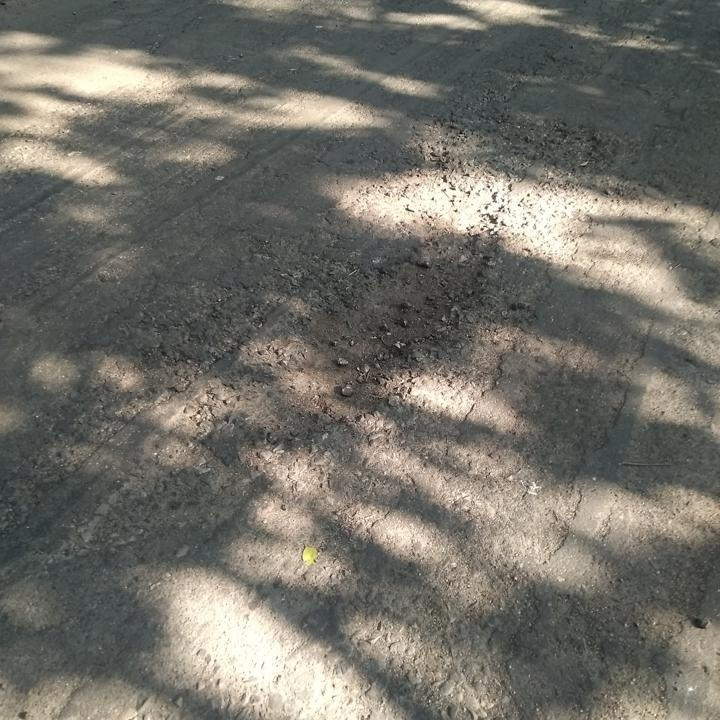pothole: (271, 225, 505, 421)
